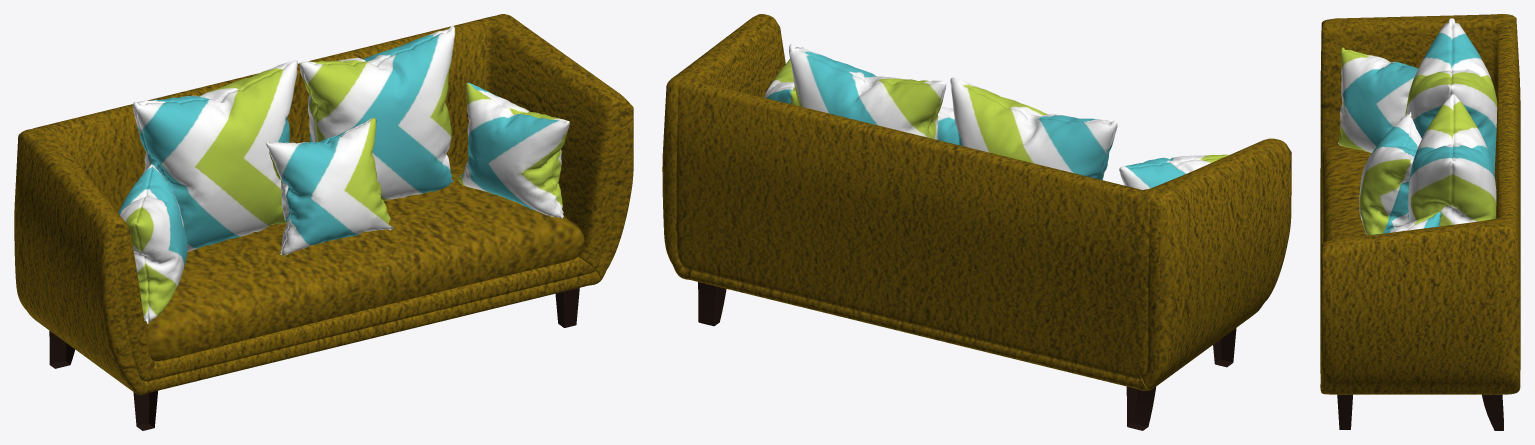
3 renders of one model, left to right at view 1: azimuth 30°, elevation 25°; view 2: azimuth 150°, elevation 25°; view 3: azimuth 270°, elevation 25°, orthographic. The views are drawn at different scales.
Parts seen in each view (by area): view 1: couch, pillow_02_geo, seat, Legs_01_geo; view 2: couch, pillow_02_geo, Legs_01_geo; view 3: couch, pillow_02_geo, seat, Legs_01_geo.
Boxes of the visible parts, box(x1,y1,x2,y2) form: couch: box(14, 14, 633, 394); pillow_02_geo: box(118, 26, 569, 323); seat: box(144, 162, 584, 361); Legs_01_geo: box(49, 287, 579, 430); couch: box(662, 14, 1291, 390); pillow_02_geo: box(764, 44, 1228, 189); Legs_01_geo: box(698, 282, 1236, 430); couch: box(1320, 14, 1520, 394); pillow_02_geo: box(1338, 18, 1497, 235); seat: box(1321, 145, 1371, 242); Legs_01_geo: box(1337, 394, 1503, 430).
Bounding box in the file's own units: 2.09 × 1.03 × 0.7535.
Materials: 4 (3 with a texture image).
